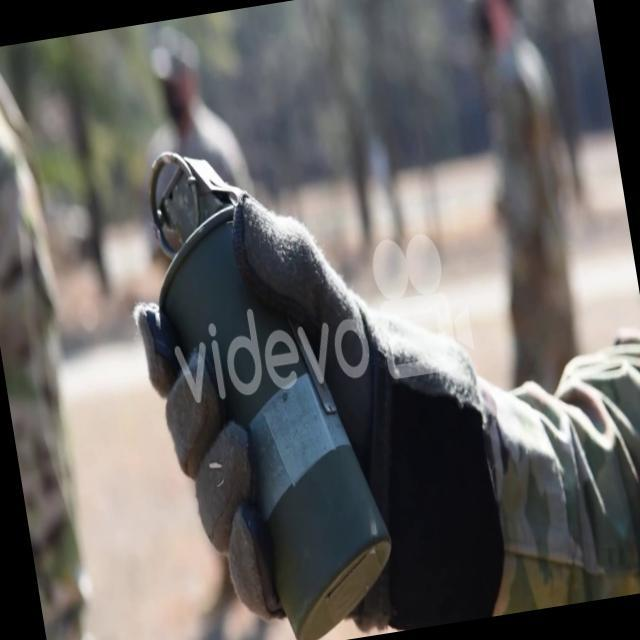grenade: (125, 123, 403, 640)
